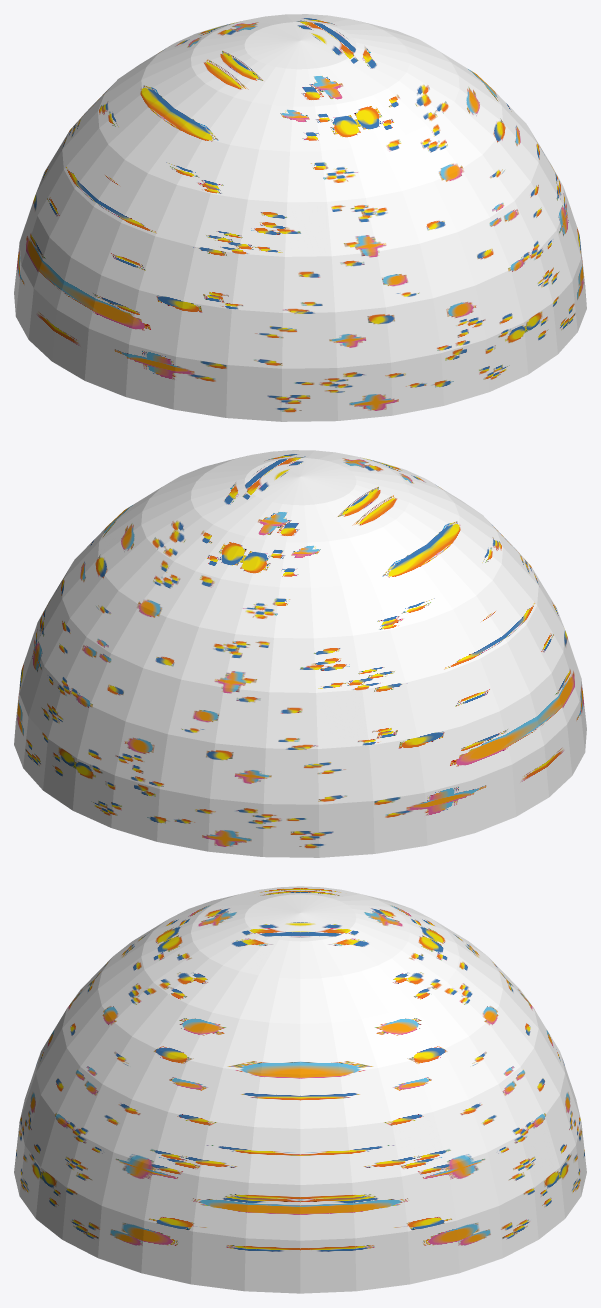
File: stars-25-01.glb
The picture shows the model from 3 angles, top to bottom: view 1: azimuth 30°, elevation 25°; view 2: azimuth 150°, elevation 25°; view 3: azimuth 270°, elevation 25°; orthographic projection.
Visible parts, largest first — view 1: stars-new; view 2: stars-new; view 3: stars-new.
Boxes of the visible parts, x1,y1,x2,y2 form: stars-new: (14, 14, 586, 421); stars-new: (14, 450, 586, 857); stars-new: (14, 886, 586, 1293).
Size of the model in its own units: 6 by 3 by 6.
1 material, 1 textured.
